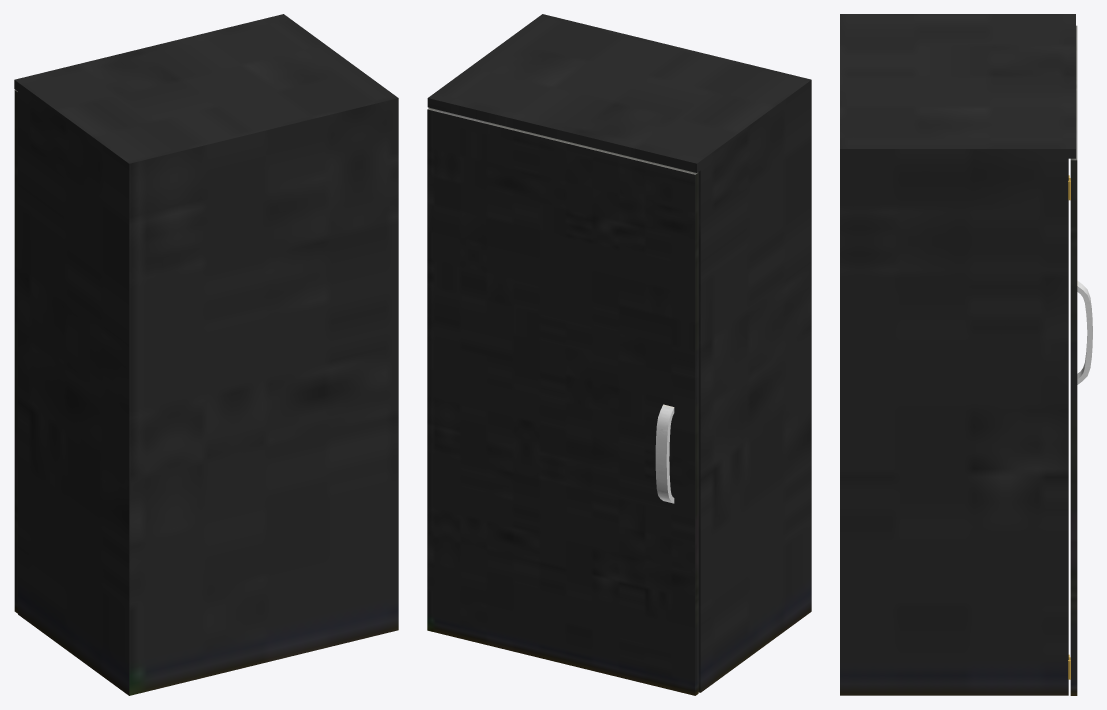
Rendered from Closet47.glb.
3 renders of one model, left to right at view 1: azimuth 30°, elevation 25°; view 2: azimuth 150°, elevation 25°; view 3: azimuth 270°, elevation 25°, orthographic. The views are drawn at different scales.
Parts seen in each view (by area): view 1: Closet47_model, Closet47Door; view 2: Closet47Door, Closet47_model; view 3: Closet47_model, Closet47Door.
Part boxes in pixels (x1,y1,x2,y2): Closet47_model: (14,14,398,695); Closet47Door: (14,90,17,613); Closet47Door: (427,108,698,695); Closet47_model: (427,14,811,692); Closet47_model: (840,14,1075,695); Closet47Door: (1068,25,1092,695).
Bounding box in the file's own units: 1.38 × 2.58 × 1.08.
Materials: 1 (1 with a texture image).
